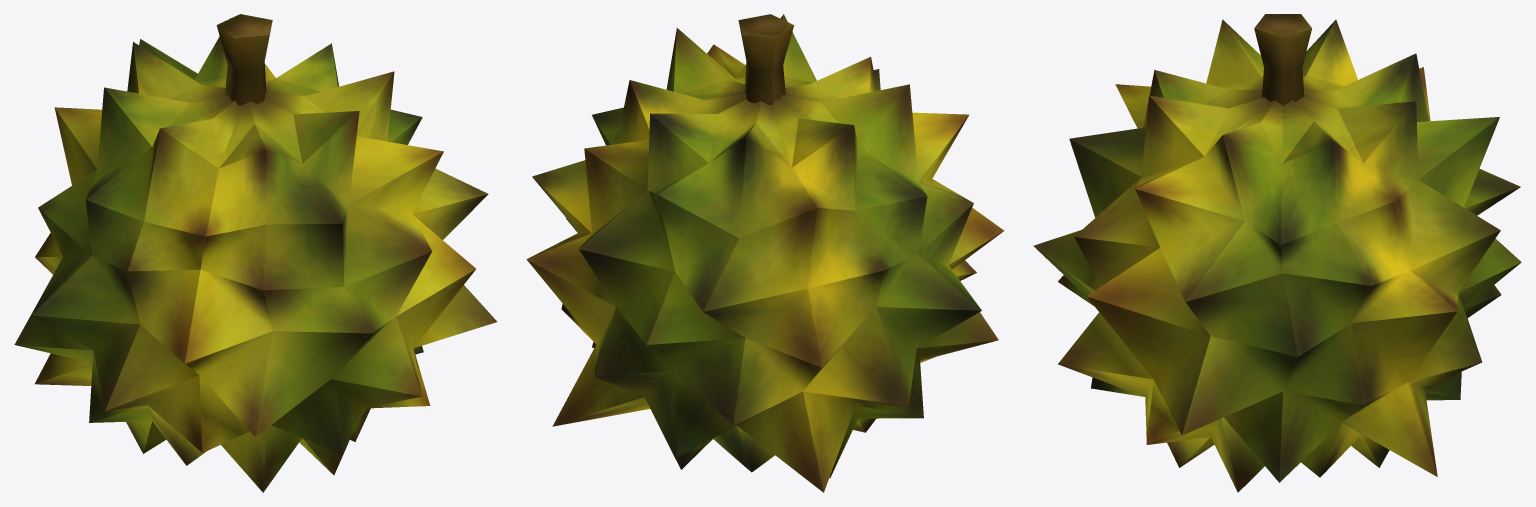
File: Obj_FruitDorian_A_01.glb
3 renders of one model, left to right at view 1: azimuth 30°, elevation 25°; view 2: azimuth 150°, elevation 25°; view 3: azimuth 270°, elevation 25°, orthographic.
Visible parts, largest first — view 1: Obj_FruitDorian_A_01; view 2: Obj_FruitDorian_A_01; view 3: Obj_FruitDorian_A_01.
Part boxes in pixels (x1,y1,x2,y2): Obj_FruitDorian_A_01: (14, 14, 497, 492); Obj_FruitDorian_A_01: (526, 14, 1004, 492); Obj_FruitDorian_A_01: (1033, 14, 1521, 492).
Bounding box in the file's own units: 0.7107 × 0.6831 × 0.7104.
Materials: 1 (1 with a texture image).
